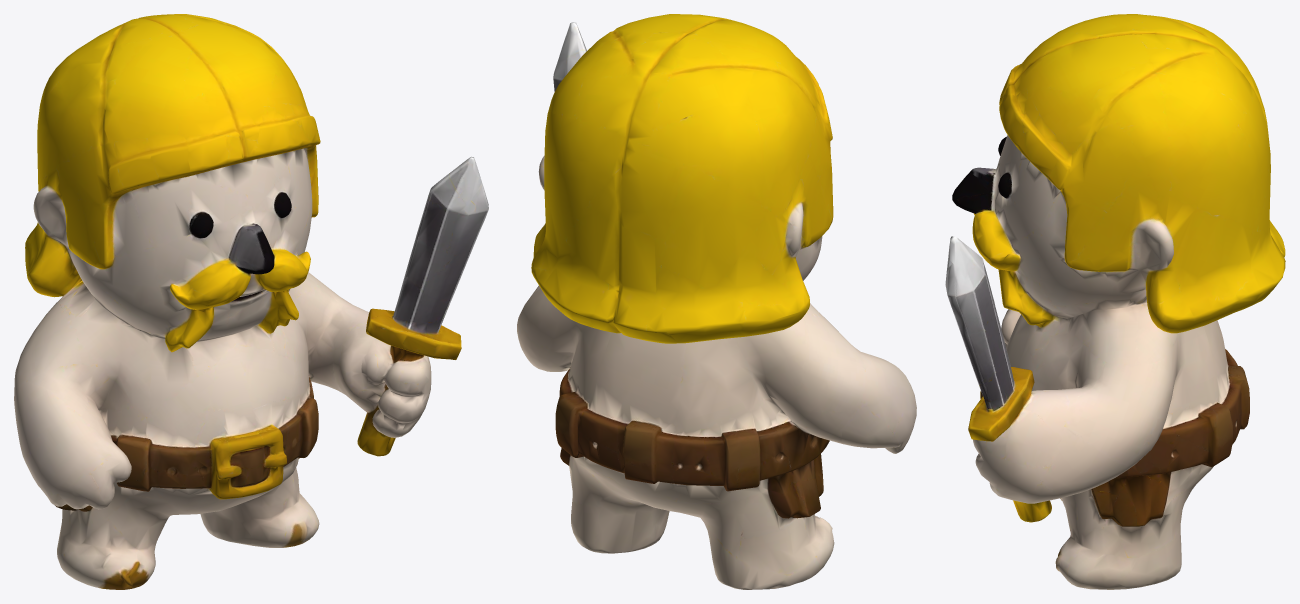
Rendered from Barbaro.glb.
The picture shows the model from 3 angles, left to right: view 1: azimuth 30°, elevation 25°; view 2: azimuth 150°, elevation 25°; view 3: azimuth 270°, elevation 25°; orthographic projection. The views are drawn at different scales.
Bounding box in the file's own units: 1.56 × 1.9 × 1.16.
1 material, 1 textured.
